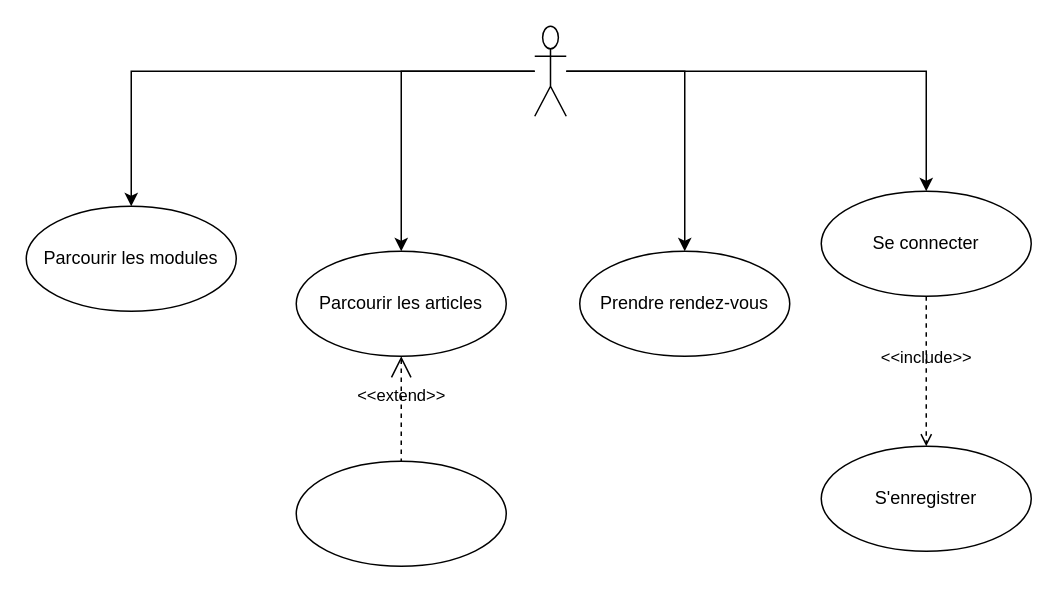
This 1058x593 diagram has some shape labels left out. Here are the shapes that lost their labels. From the top down, the centre of each, then its label:
At pixel 549 70: "Utilisateur non authentifié / Invité".
At pixel 400 513: "Ecrire un commentaire".
